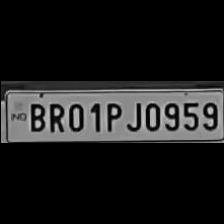0: (64, 100, 86, 132), (141, 99, 161, 131)
1: (85, 100, 102, 132)
5: (179, 98, 199, 132)
9: (160, 99, 180, 131), (199, 99, 219, 131)
B: (25, 100, 45, 132)
J: (122, 98, 142, 132)
P: (99, 98, 121, 132)
R: (44, 100, 64, 132)
